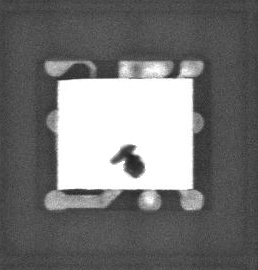DIE_INK: (104, 150, 139, 186)
